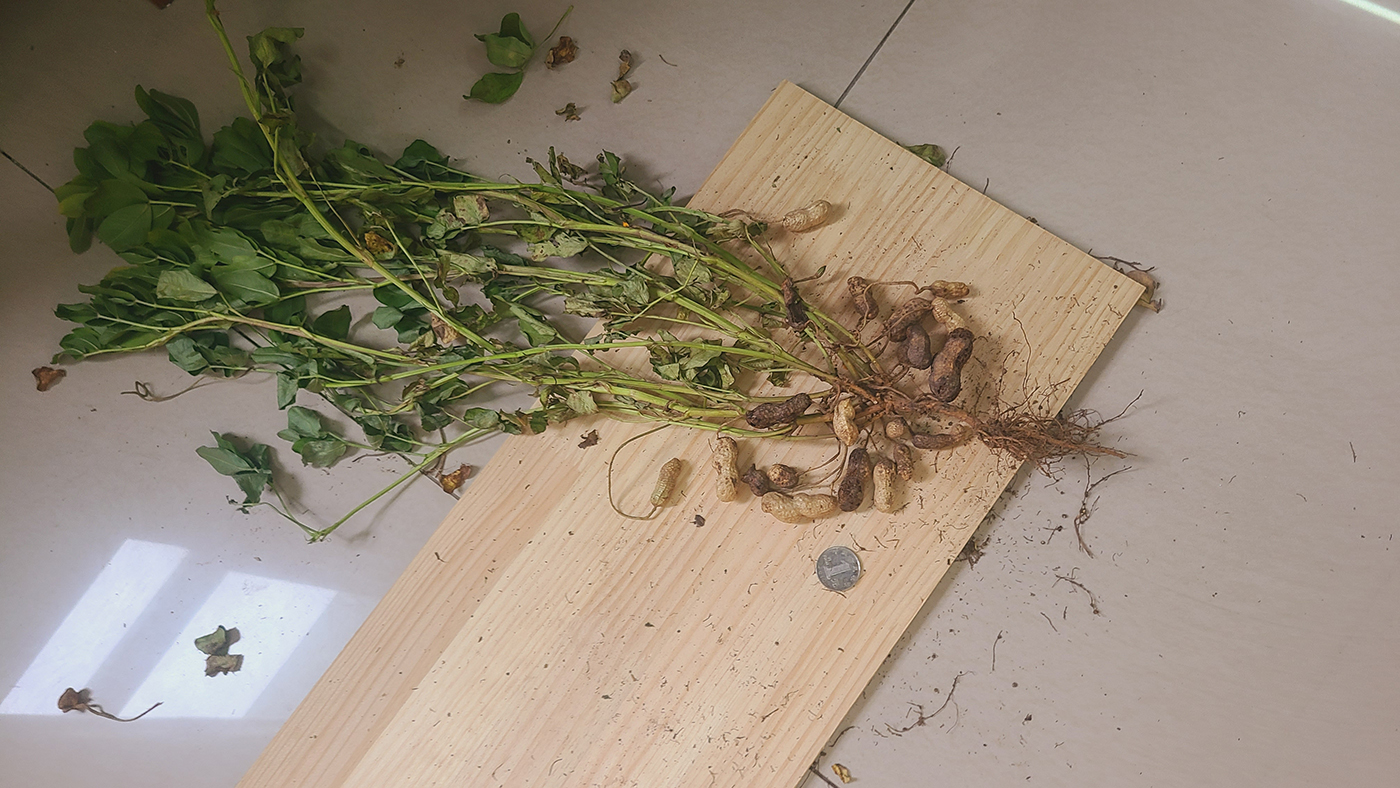h: (761, 491, 836, 524), (711, 436, 741, 503), (649, 457, 682, 508), (782, 199, 833, 231), (873, 456, 897, 514), (832, 398, 858, 447), (931, 298, 966, 332), (929, 279, 970, 298), (885, 420, 905, 439)
l: (928, 327, 975, 404), (745, 392, 813, 429), (838, 448, 872, 512), (884, 297, 931, 341), (780, 276, 808, 331), (847, 275, 880, 320), (906, 324, 931, 369), (740, 463, 769, 497), (893, 443, 914, 481), (767, 463, 798, 488), (912, 432, 952, 448)
